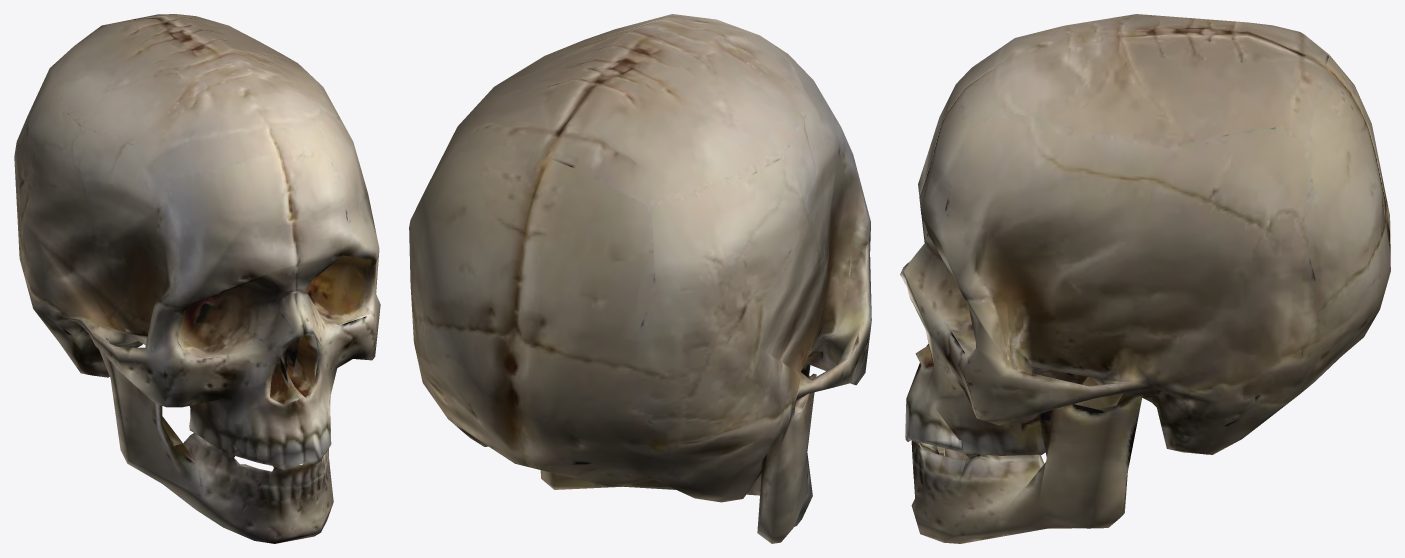
File: human_skull.glb
The picture shows the model from 3 angles, left to right: view 1: azimuth 30°, elevation 25°; view 2: azimuth 150°, elevation 25°; view 3: azimuth 270°, elevation 25°; orthographic projection. The views are drawn at different scales.
Parts seen in each view (by area): view 1: Human Skull; view 2: Human Skull; view 3: Human Skull.
Boxes of the visible parts, box(x1,y1,x2,y2) form: Human Skull: box(14, 14, 380, 543); Human Skull: box(409, 14, 871, 543); Human Skull: box(900, 14, 1390, 543).
Size of the model in its own units: 0.1065 by 0.1584 by 0.1427.
1 material, 1 textured.
